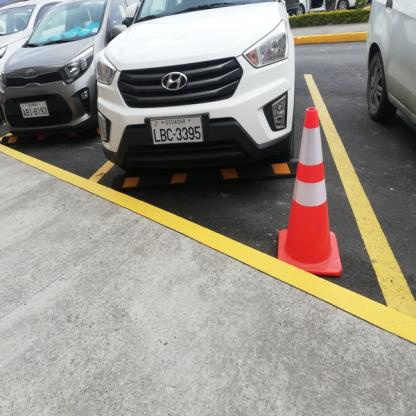Placa: (146, 113, 209, 147), (15, 98, 55, 124)
